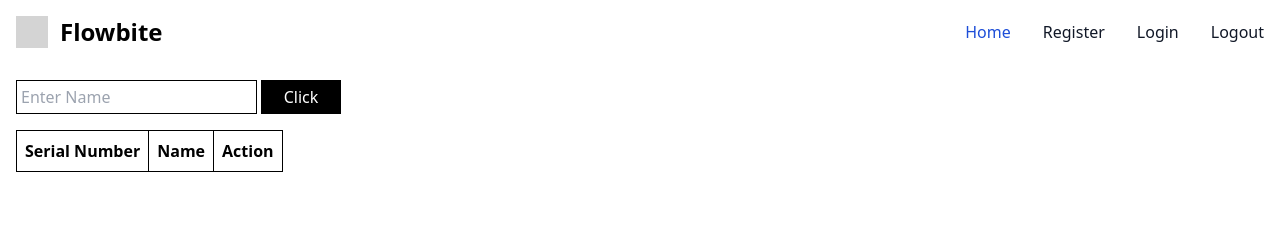
Home Page E2E Testing › Add a name to the list
Type "Yagami Light" into the field with placeholder "Enter Name" at (137, 97), box [16,80,257,114]
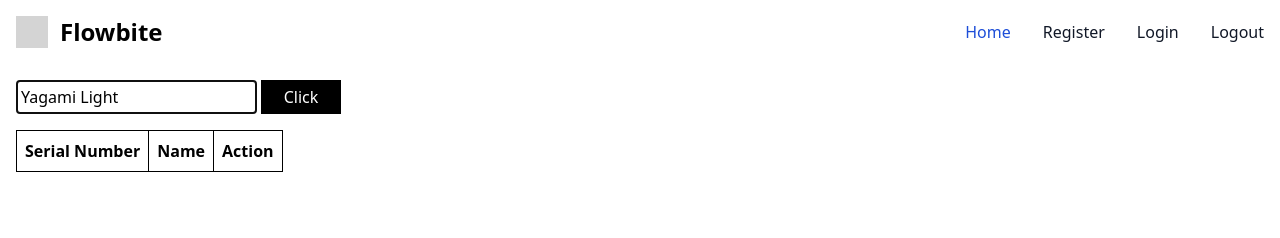
Click the button with id "submit" at (301, 97), box [261,80,341,114]
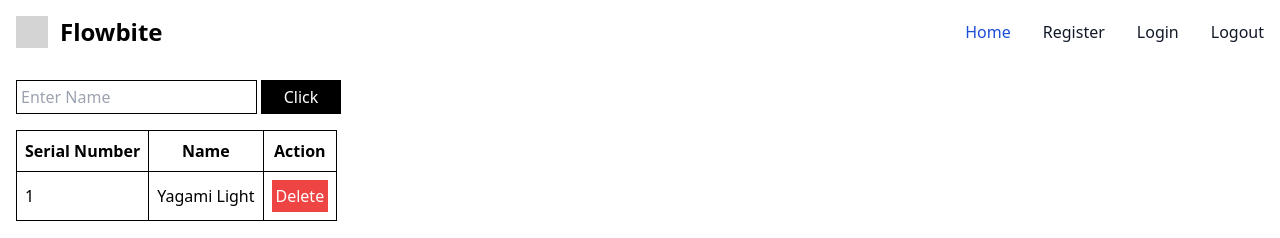
Result: the cell "Yagami Light" is shown at [149,172,263,220]
